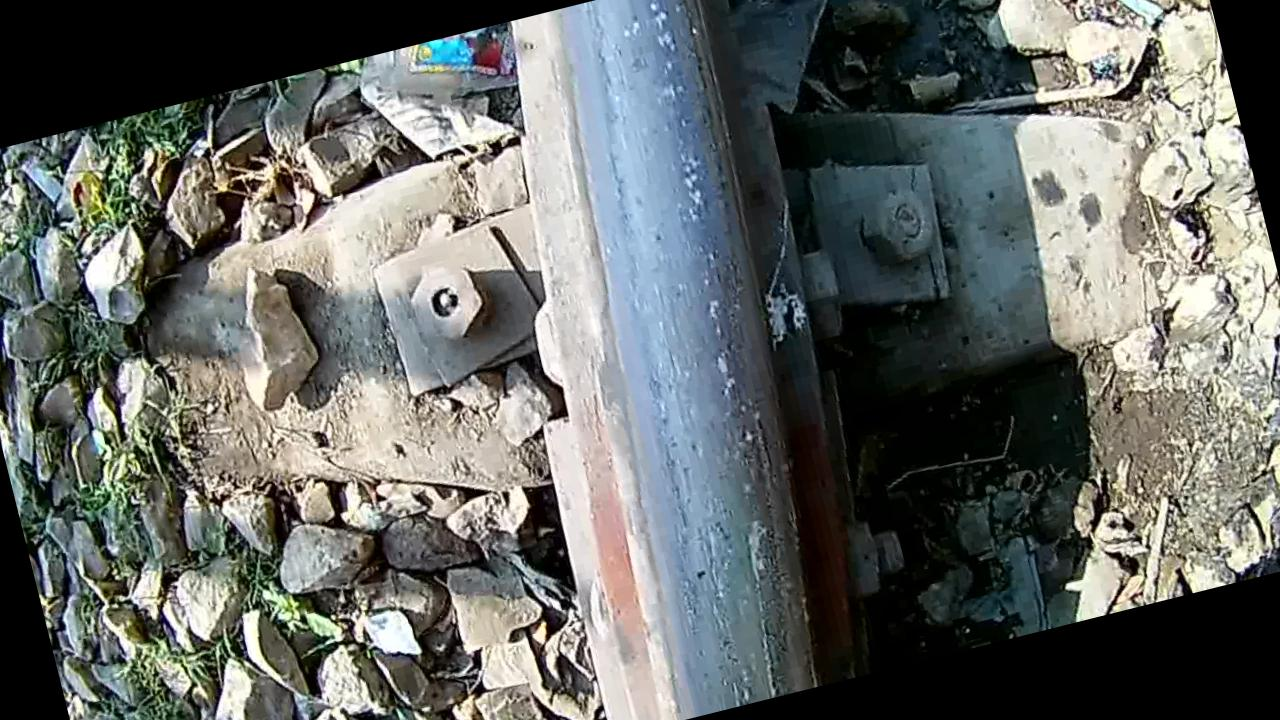clip_missing: (491, 0, 871, 720)
